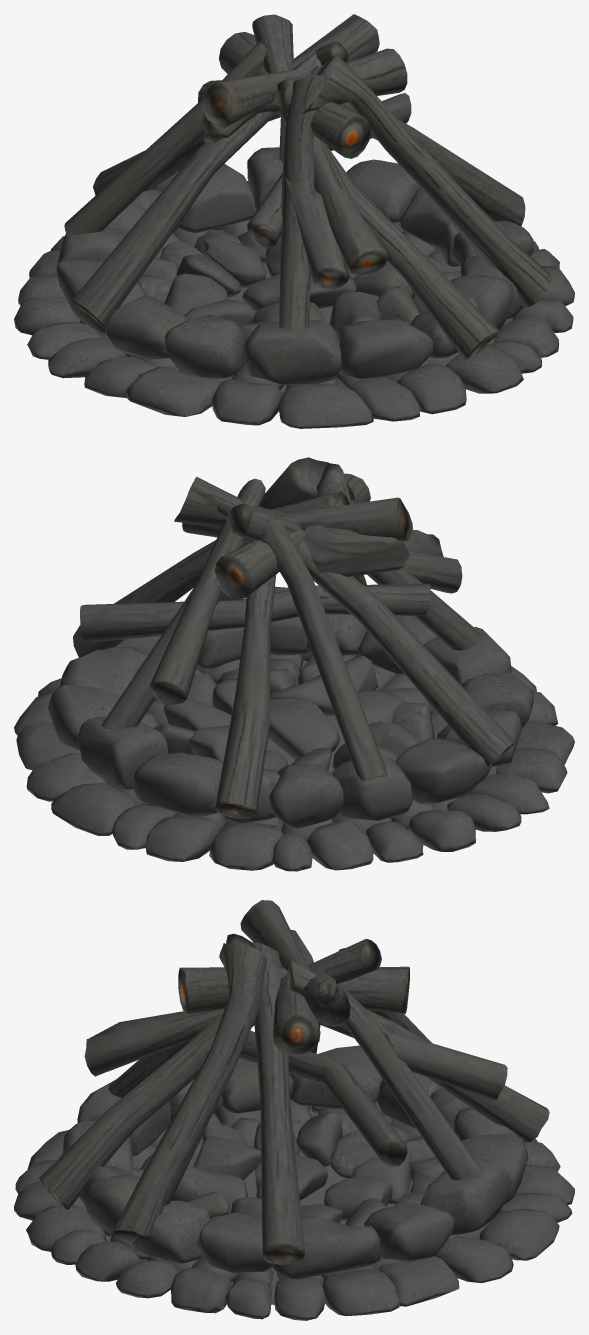
File: bonfire.glb
The picture shows the model from 3 angles, top to bottom: view 1: azimuth 30°, elevation 25°; view 2: azimuth 150°, elevation 25°; view 3: azimuth 270°, elevation 25°; orthographic projection.
Bounding box in the file's own units: 0.9609 × 0.5034 × 0.9507.
Materials: 1 (1 with a texture image).
